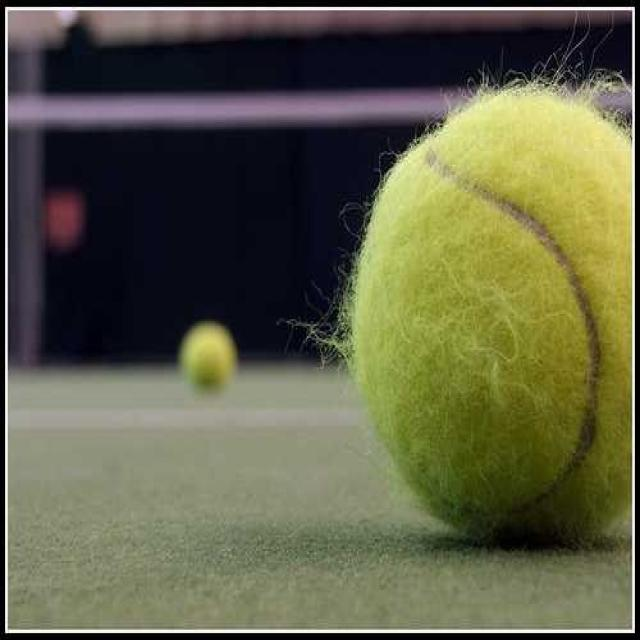Tennis_Ball: (342, 89, 640, 551), (183, 322, 237, 388)
